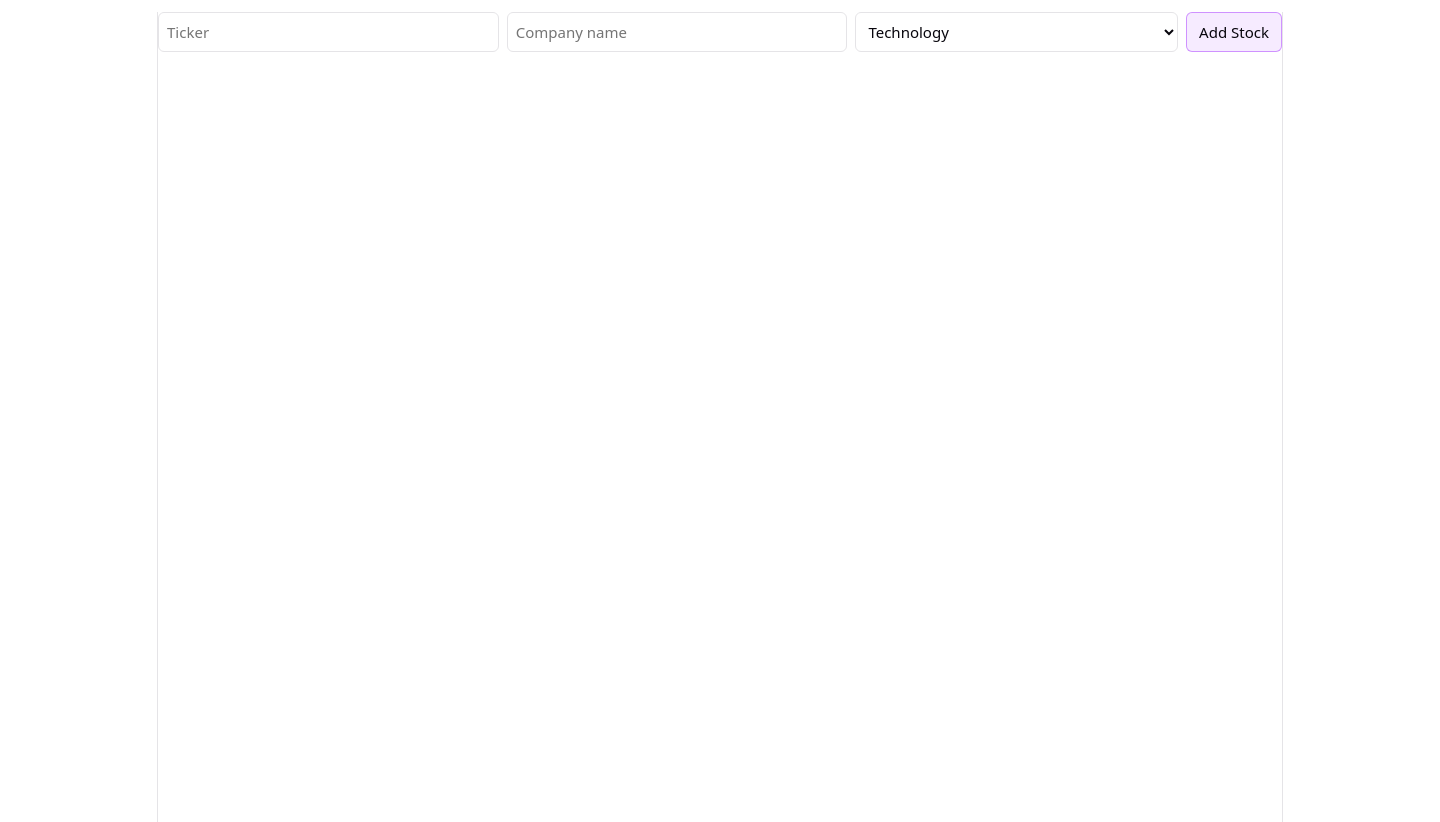
Test: shows errors and does not submit when required fields are empty
The width and height of the screenshot is (1440, 822).
Click the button "Add Stock": (1234, 32) [1186,12,1282,52]
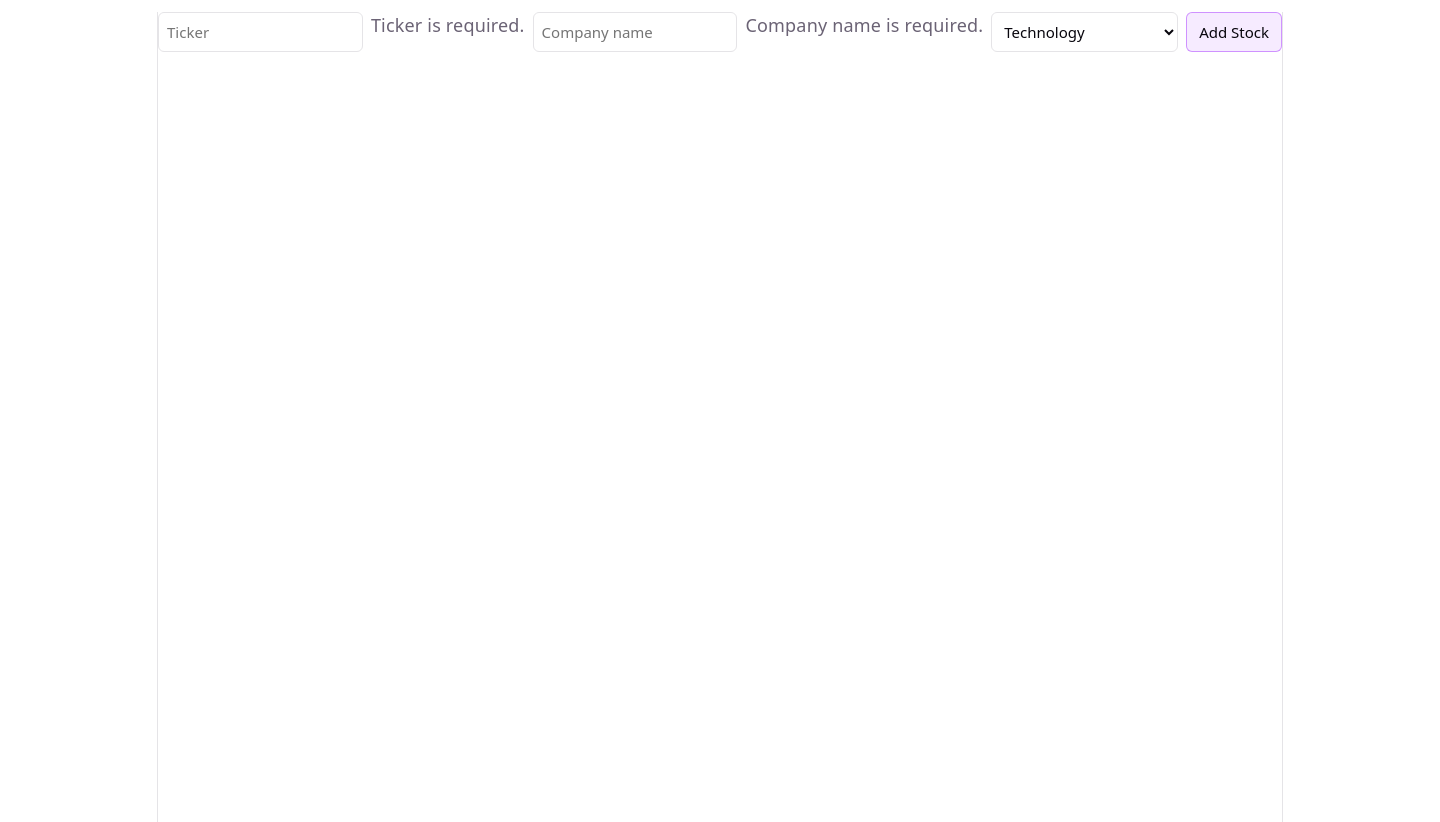
Result: the text "Ticker is required." is shown at [371,13,525,37]
Result: the text "Company name is required." is shown at [746,13,983,37]
